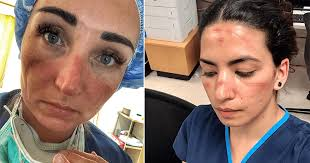without_mask: (29, 7, 129, 135), (200, 51, 276, 128)
